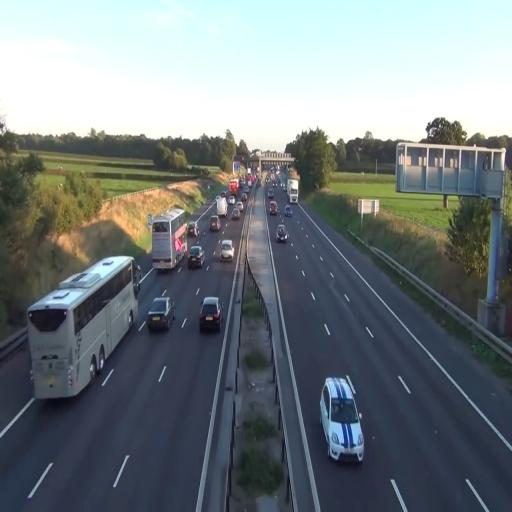vehicle: (26, 254, 139, 402), (320, 375, 364, 463), (151, 208, 188, 272), (147, 294, 174, 332), (198, 296, 223, 334), (187, 244, 205, 270), (220, 238, 234, 260), (276, 221, 288, 244)
